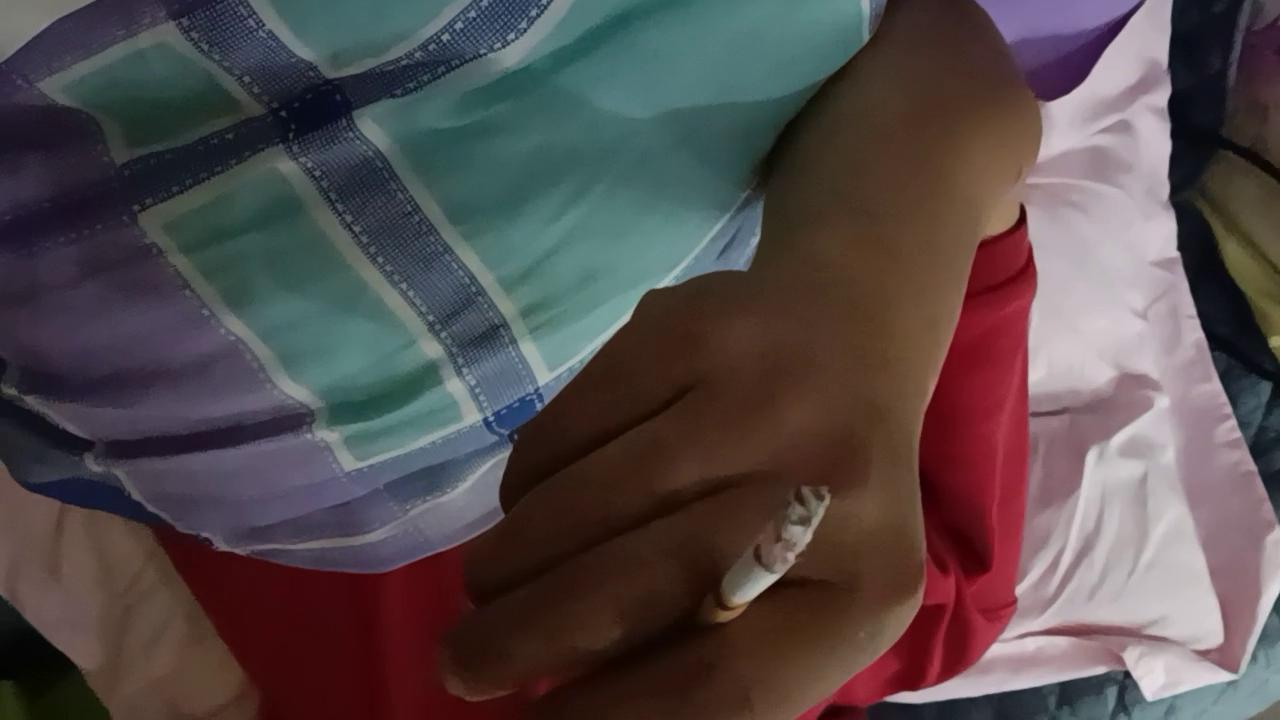smoke: (688, 482, 832, 641)
